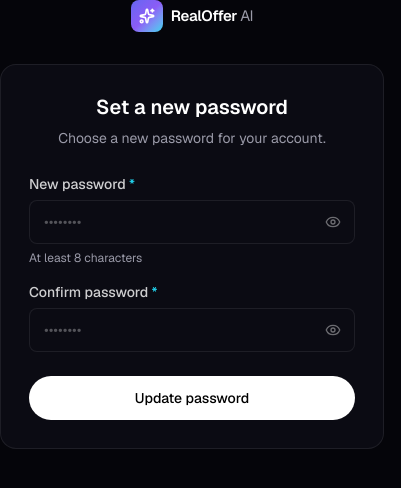
ResetPasswordForm — validation › requires the two passwords to match
Type "correcthorse1" into the password field labelled "New password" at (192, 222), box [29, 200, 355, 244]
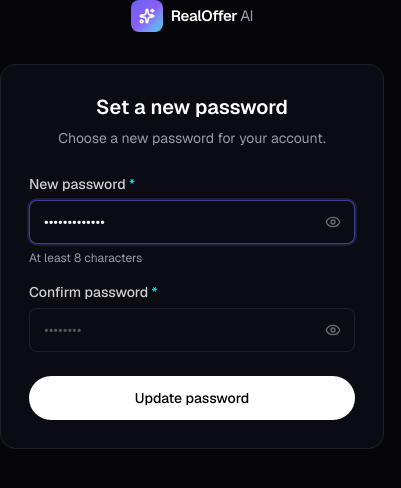
Type "differenthorse1" into the password field labelled "Confirm password" at (192, 330), box [29, 308, 355, 352]
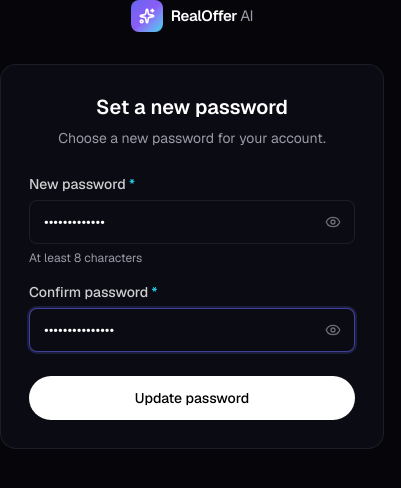
Click the button "Update password" at (192, 398), box [29, 376, 355, 420]
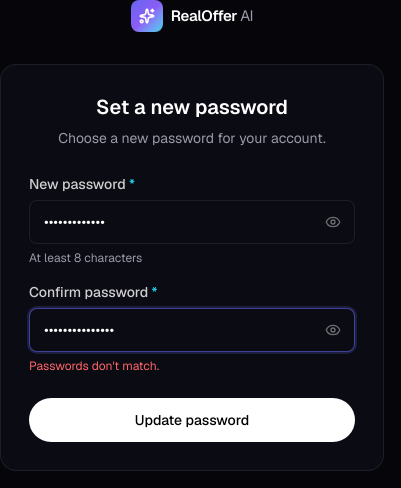
Result: the text "Passwords don't match." is shown at [29, 358, 159, 374]
